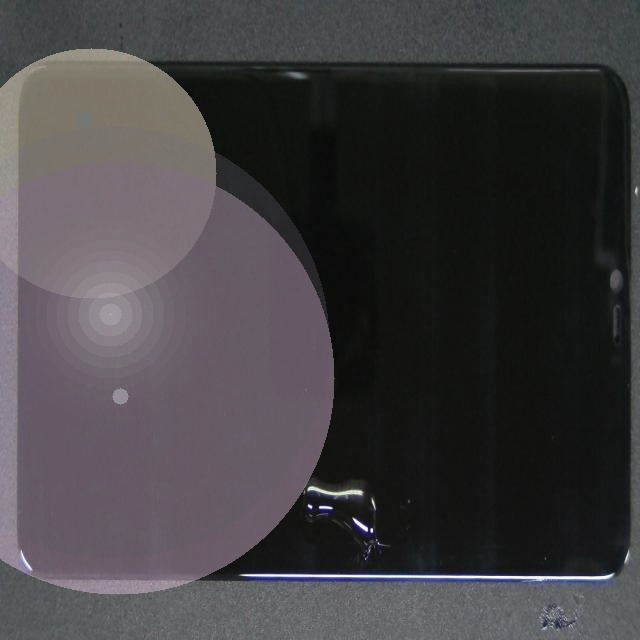oil: (169, 252, 542, 640)
